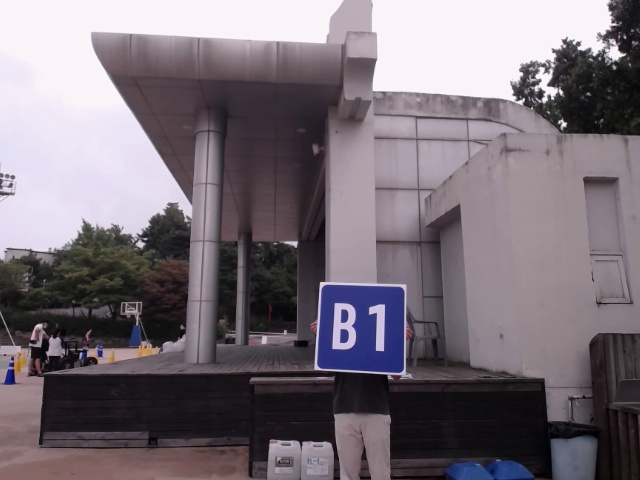delivery_b1: (316, 283, 406, 375)
